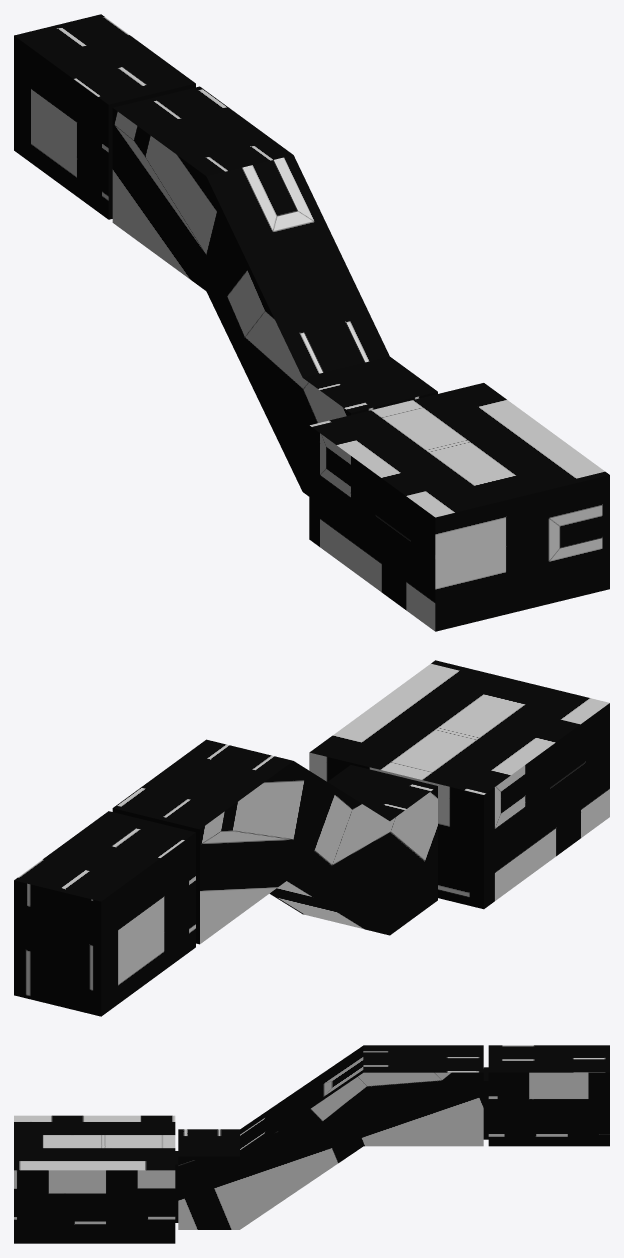
The model's file is Room_new2.obj.
3 views of the same model, one above another, from view 1: azimuth 30°, elevation 25°; view 2: azimuth 150°, elevation 25°; view 3: azimuth 270°, elevation 25° (orthographic). The views are drawn at different scales.
Parts seen in each view (by area): view 1: Room_Cube_None; view 2: Room_Cube_None; view 3: Room_Cube_None.
Boxes of the visible parts, x1,y1,x2,y2 form: Room_Cube_None: [14, 14, 609, 631]; Room_Cube_None: [14, 660, 609, 1016]; Room_Cube_None: [14, 1045, 609, 1243].
Bounding box in the file's own units: 4 × 5.37 × 18.45.
